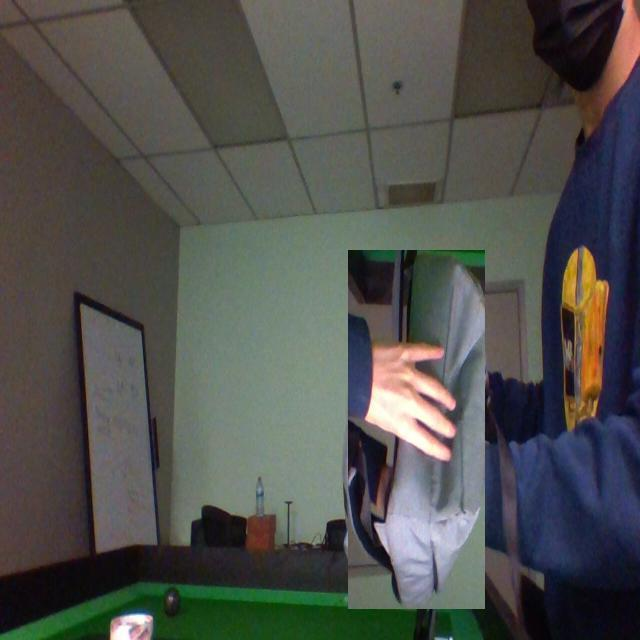Backpacks: (348, 250, 486, 610)
